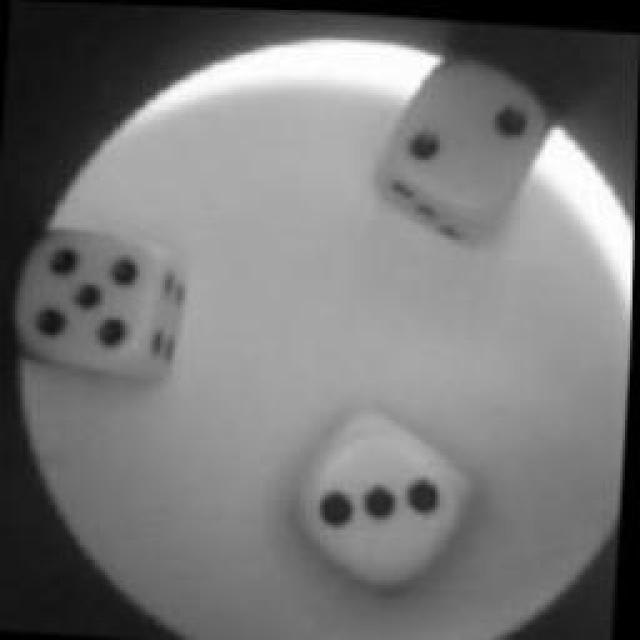dice_2: (375, 45, 563, 250)
dice_3: (292, 401, 486, 594)
dice_5: (14, 220, 186, 380)
